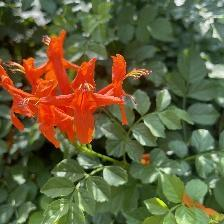honeysuckle: (63, 59, 110, 138)
